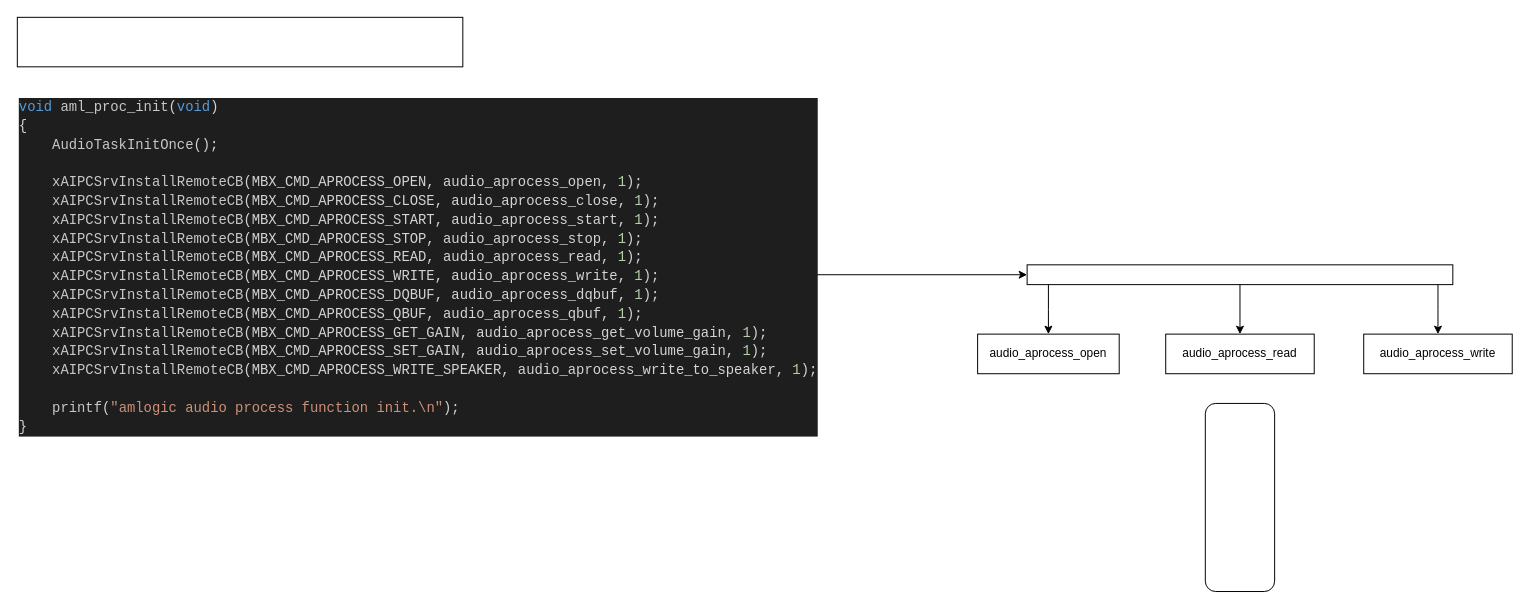
Image size: 1530x609. Some labels were removed from this diagram. Each missing label, with the centre of its shape:
"vendor/amlogic/rtos/HiFiDSP_rtos_sdk/audio/lib/aprocess" belongs at (x=1239, y=274).
"vendor/amlogic/rtos/HiFiDSP_rtos_sdk/audio/lib/aprocess/src/aml_proc_init.c" belongs at (x=239, y=41).
